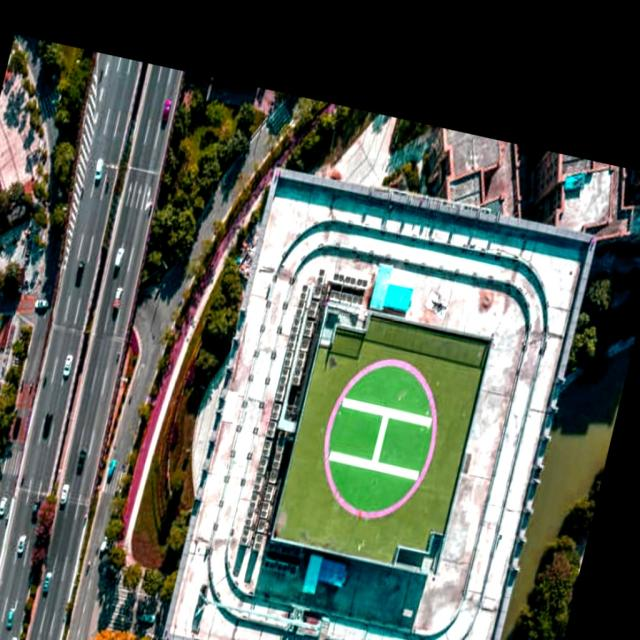helipad: (319, 354, 439, 522)
